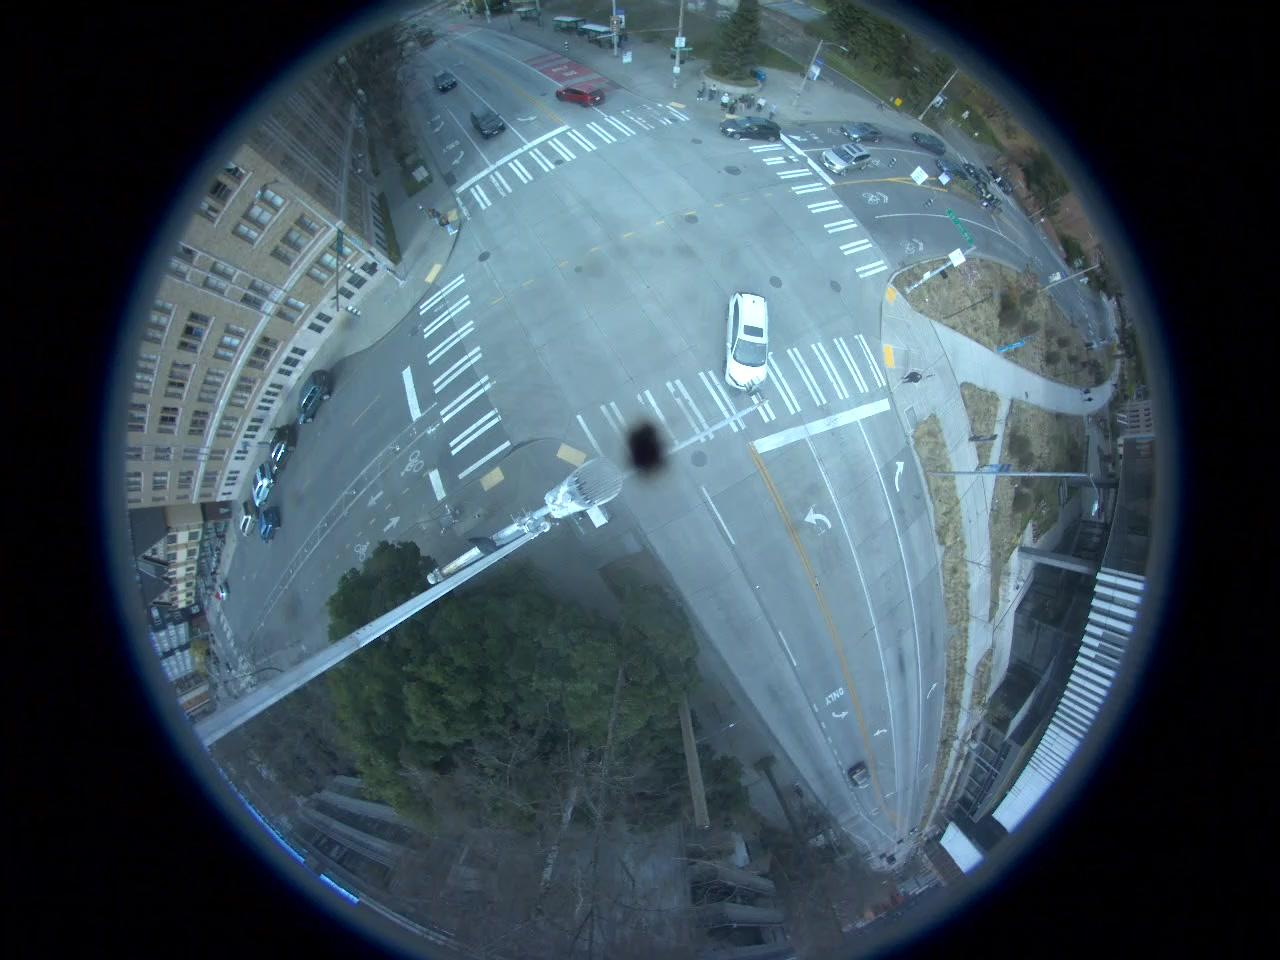car: (729, 296, 768, 391), (719, 114, 784, 144), (300, 373, 331, 424), (824, 144, 871, 172), (472, 106, 507, 141), (272, 422, 294, 476), (842, 119, 888, 142), (906, 130, 950, 154), (250, 464, 274, 505), (556, 84, 602, 104), (846, 758, 874, 790), (257, 508, 280, 541), (939, 157, 970, 179), (237, 501, 257, 534), (433, 70, 457, 92)
person: (440, 212, 458, 236), (899, 371, 927, 386), (426, 202, 442, 224), (736, 90, 750, 110), (717, 90, 730, 110), (756, 94, 768, 112), (708, 81, 717, 103), (748, 91, 758, 109), (696, 80, 706, 98), (728, 96, 738, 112)
